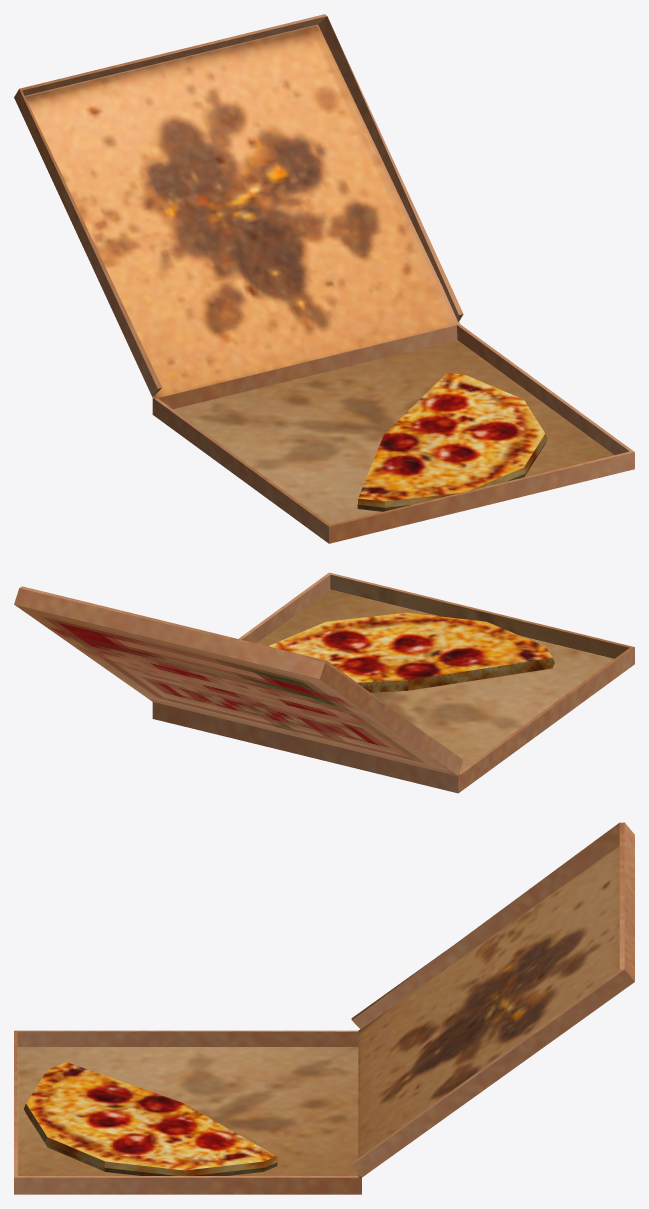
File: pizza_half.glb
The picture shows the model from 3 angles, top to bottom: view 1: azimuth 30°, elevation 25°; view 2: azimuth 150°, elevation 25°; view 3: azimuth 270°, elevation 25°; orthographic projection.
Visible parts, largest first — view 1: pizza half; view 2: pizza half; view 3: pizza half.
Part boxes in pixels (x1,y1,x2,y2): pizza half: [14, 14, 634, 543]; pizza half: [14, 572, 634, 793]; pizza half: [14, 822, 634, 1194].
Bounding box in the file's own units: 0.5276 × 0.3762 × 0.9413.
Materials: 2 (2 with a texture image).
